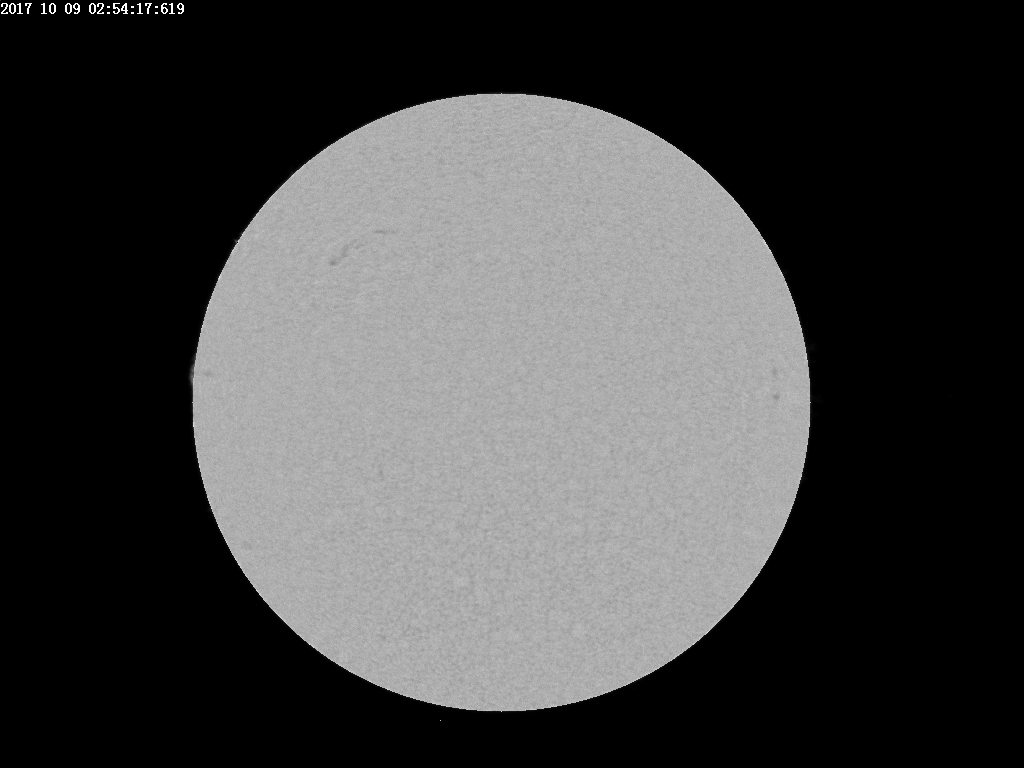filament: (320, 221, 406, 278), (763, 354, 785, 404), (197, 361, 220, 385)
